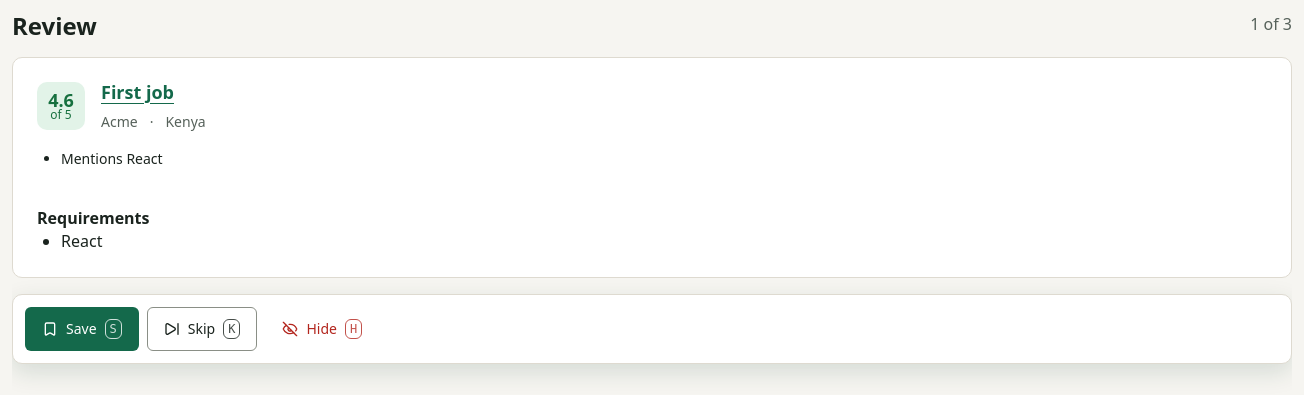
Test: TriagePage › offers the same three choices as buttons
The image size is (1304, 395).
Click the button "Hide H" at coordinates (322, 329), box top-left (265, 307), bottom-right (379, 351)
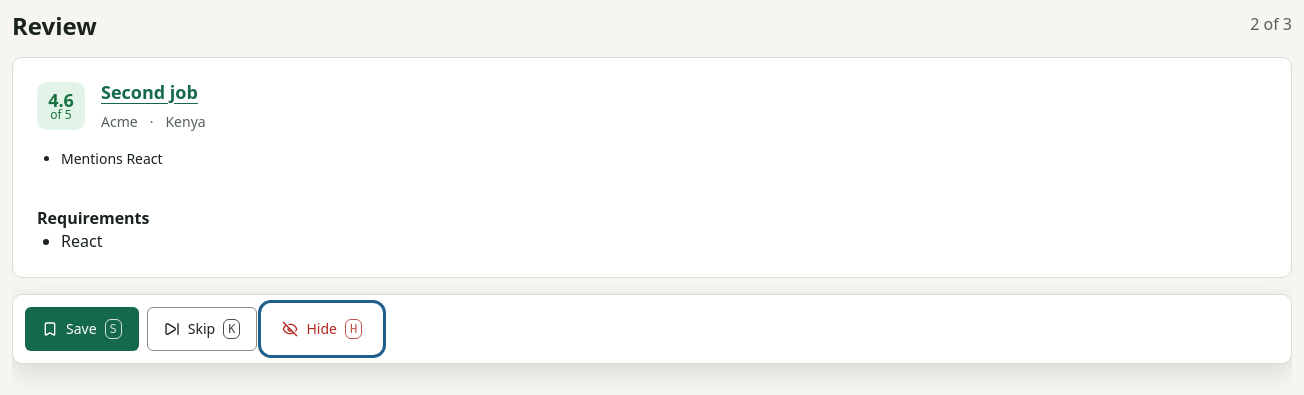
Result: the link "Second job" is shown at top-left (101, 80), bottom-right (198, 104)
